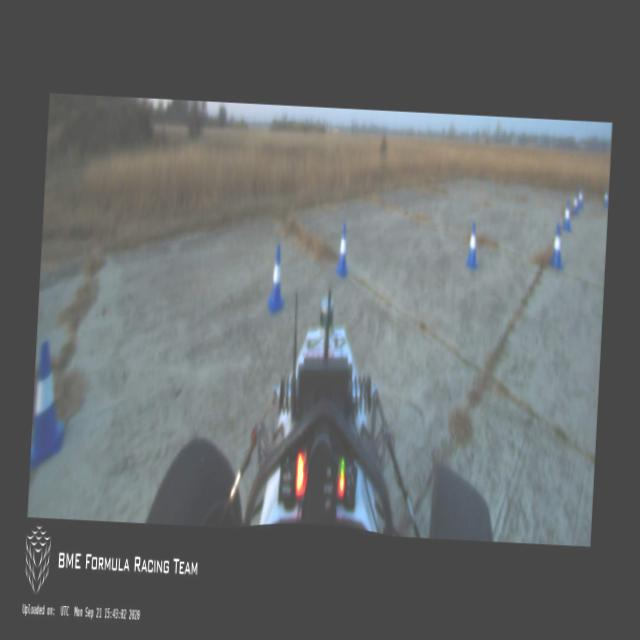blue_cone: (31, 342, 68, 470), (266, 246, 286, 314), (334, 224, 350, 276), (466, 222, 480, 272), (550, 223, 564, 270), (562, 202, 572, 233), (572, 190, 580, 216), (578, 189, 583, 208), (603, 190, 608, 208)
